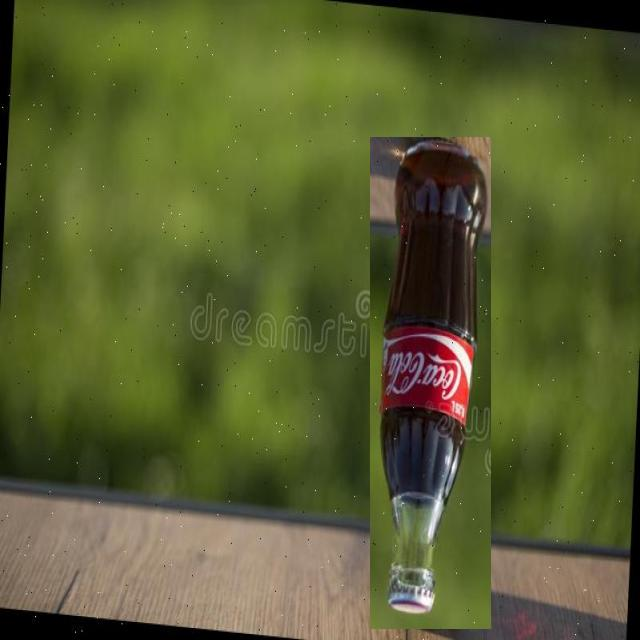coca-cola: (370, 137, 491, 629)
